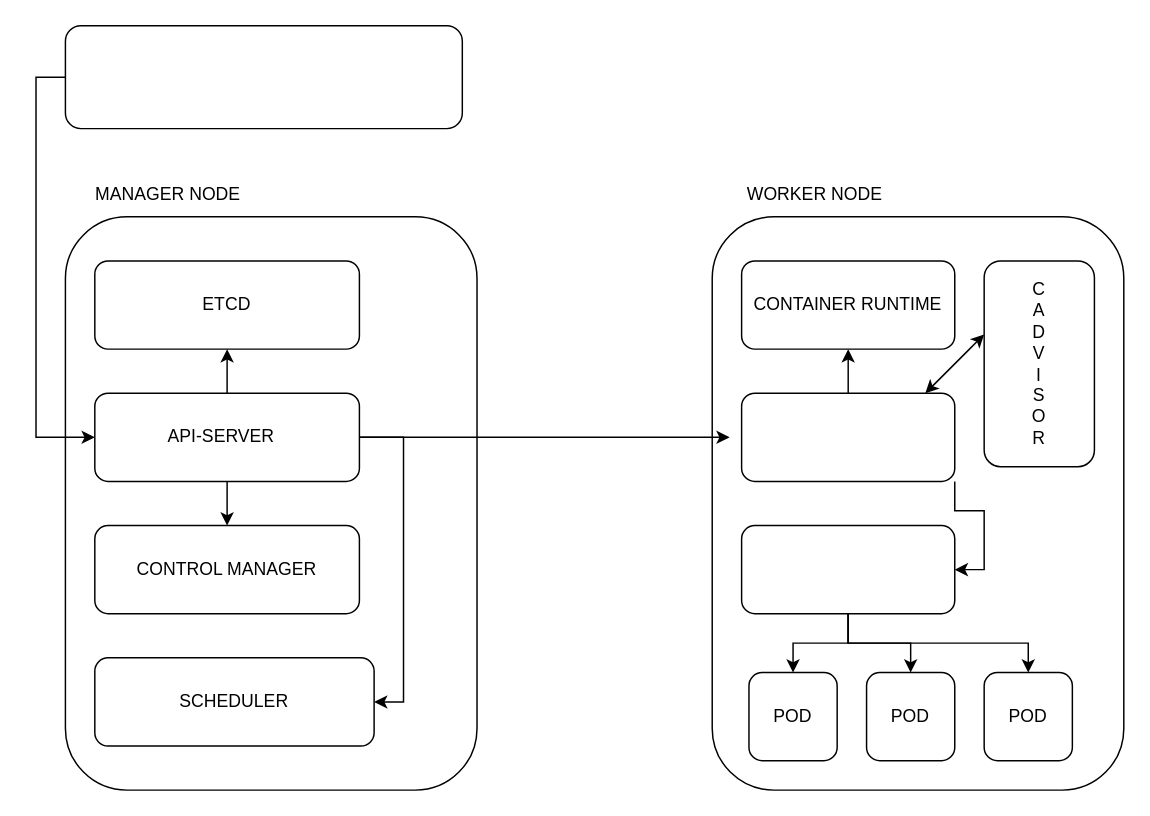
Image size: 1150x816. Some labels were removed from this diagram. Here are the shapes that lost their labels. From the top down, the centre of each, then its label:
At (x=263, y=76): "KUBECTL / GUI".
At (x=847, y=436): "KUBELET".
At (x=847, y=569): "KUBE PROXY".
